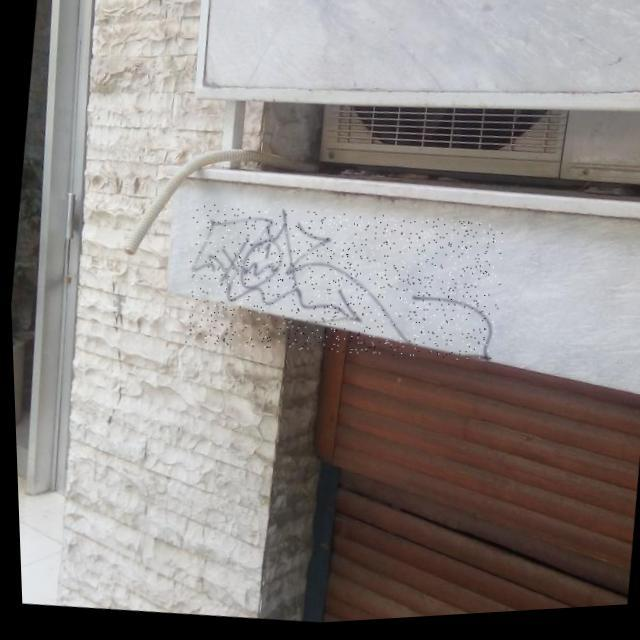-: (175, 191, 508, 382)
